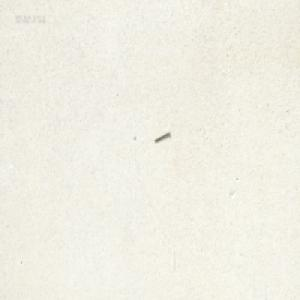Bolt: (153, 130, 169, 142)
